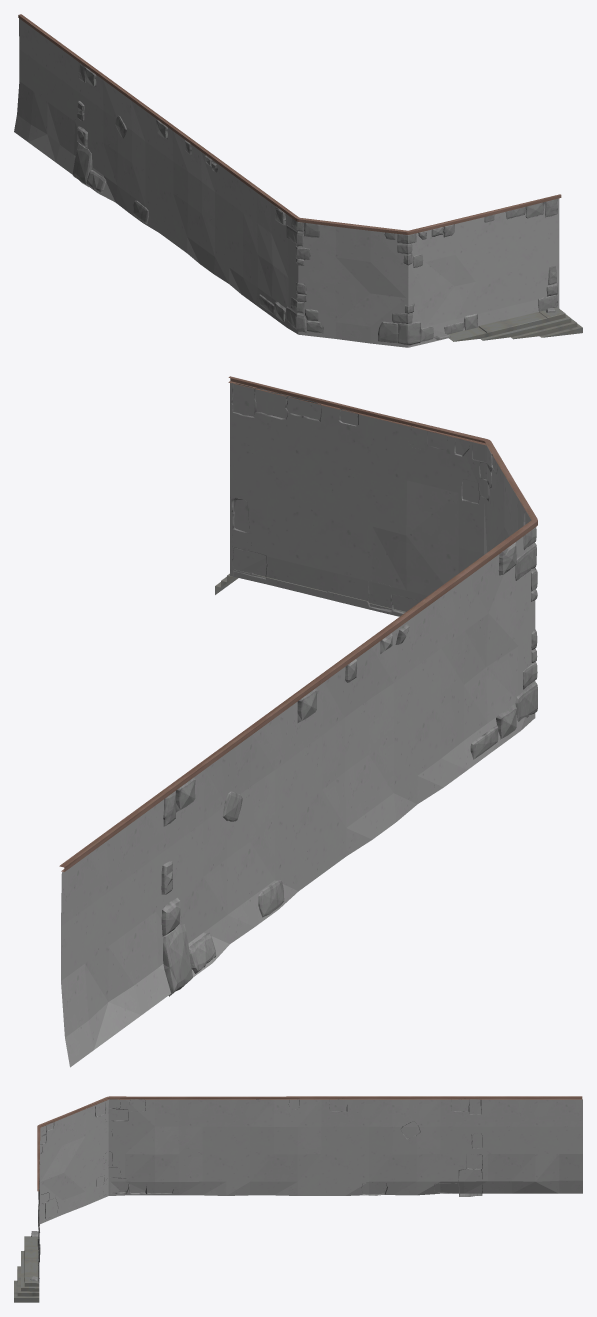
The model's file is SM_ENV_KNVLLG_AreaC_Building_A_Wall.fbx.
3 renders of one model, top to bottom at view 1: azimuth 30°, elevation 25°; view 2: azimuth 150°, elevation 25°; view 3: azimuth 270°, elevation 25°, orthographic. The views are drawn at different scales.
Parts seen in each view (by area): view 1: SM_ENV_KNVLLG_AreaC_Building_A_Wall.mo; view 2: SM_ENV_KNVLLG_AreaC_Building_A_Wall.mo; view 3: SM_ENV_KNVLLG_AreaC_Building_A_Wall.mo.
Boxes of the visible parts, x1,y1,x2,y2 form: SM_ENV_KNVLLG_AreaC_Building_A_Wall.mo: (14,14,582,347); SM_ENV_KNVLLG_AreaC_Building_A_Wall.mo: (59,376,537,1067); SM_ENV_KNVLLG_AreaC_Building_A_Wall.mo: (14,1096,582,1302).
Bounding box in the file's own units: 4088 × 2152 × 10049.
